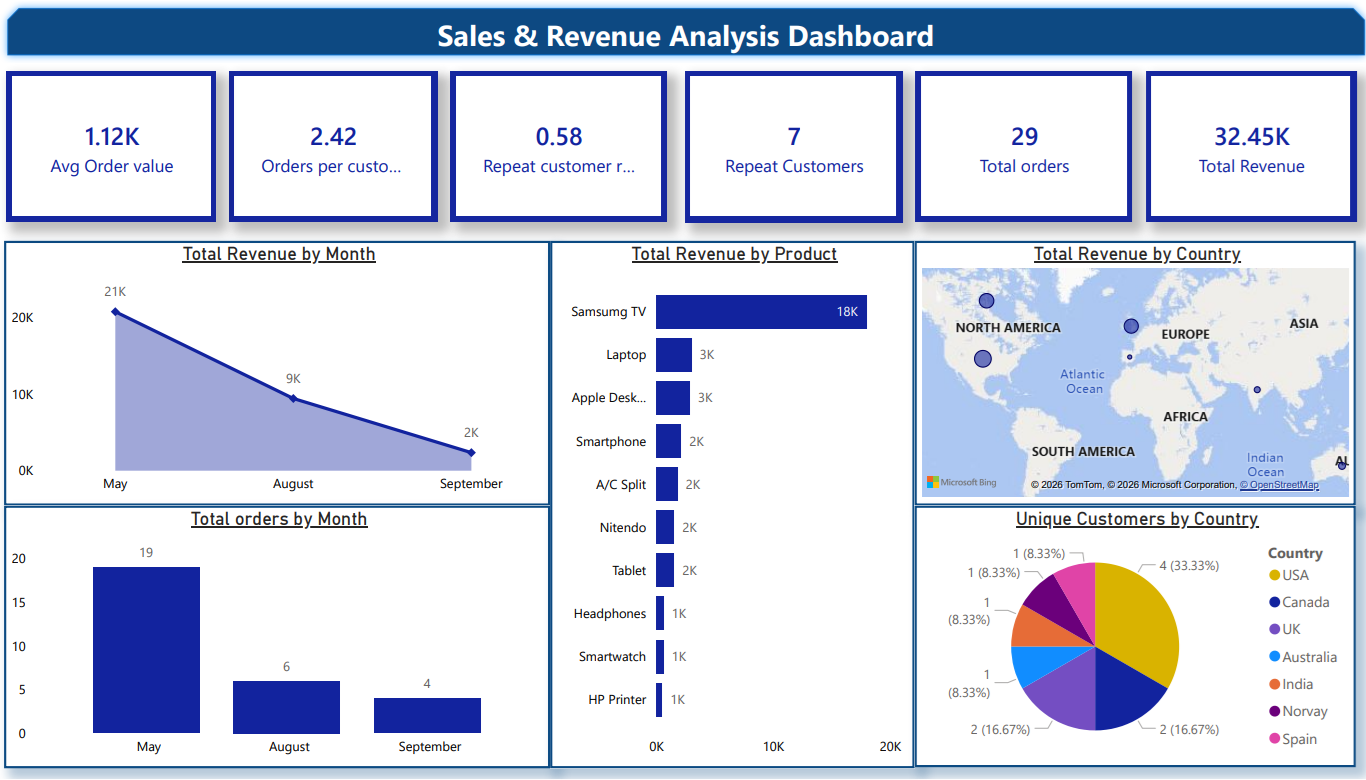

This screenshot's page, from the dashboard's own definition file:
{"tool":"powerbi","page":{"name":"Page 1","canvas":[1280,720],"ordinal":0},"visuals":[{"type":"shape","box":[9.7,0,1269.5,56.7],"z":0},{"type":"cardVisual","fields":{"Data":["Measures (2).Orders per customer"]},"box":[221.8,64.8,192.7,139.3],"z":1000},{"type":"cardVisual","fields":{"Data":["Measures (2).Repeat customer rate"]},"box":[427.5,64.8,199.2,139.3],"z":2000},{"type":"cardVisual","fields":{"Data":["Measures (2).Repeat Customers"]},"box":[644.5,65.3,200.8,139.3],"z":3000},{"type":"cardVisual","fields":{"Data":["Measures (2).Total orders"]},"box":[856.6,64.8,200.8,139.3],"z":4000},{"type":"cardVisual","fields":{"Data":["Measures (2).Total Revenue"]},"box":[1070.3,64.8,194.3,139.3],"z":5000},{"type":"lineChart","fields":{"Category":["Orders.OrderDate.Variation.Date Hierarchy.Month"],"Y":["Measures (2).Total Revenue"]},"box":[14,222.4,505.2,244.5],"z":6000},{"type":"cardVisual","fields":{"Data":["Measures (2).Avg Order value"]},"box":[16.2,64.8,194.3,139.3],"z":7000},{"type":"columnChart","fields":{"Category":["Orders.OrderDate.Variation.Date Hierarchy.Month"],"Y":["Measures (2).Total orders"]},"box":[14,466.9,505.2,242.9],"z":7001},{"type":"clusteredBarChart","title":"Total Revenue by Product","fields":{"Y":["Measures (2).Total Revenue"],"Category":["Products.ProductName"]},"box":[519.2,222.4,336.8,487.4],"z":7002},{"type":"map","fields":{"Category":["Customers.Country"],"Size":["Measures (2).Total Revenue"]},"box":[856,222.4,408,244.5],"z":7003},{"type":"pieChart","fields":{"Y":["Measures (2).Unique Customers"],"Category":["Customers.Country"]},"box":[855.8,467.5,408,242],"z":7004}]}

Visuals, with their boxes in screenshot pixels (x1, y1, x2, y2), scaled from the page's 1280x720 canvas onto the 1366x780 screenshot:
shape: bbox=[10, 0, 1365, 61]
cardVisual - Measures (2).Orders per customer: bbox=[237, 70, 442, 221]
cardVisual - Measures (2).Repeat customer rate: bbox=[456, 70, 669, 221]
cardVisual - Measures (2).Repeat Customers: bbox=[688, 71, 902, 222]
cardVisual - Measures (2).Total orders: bbox=[914, 70, 1128, 221]
cardVisual - Measures (2).Total Revenue: bbox=[1142, 70, 1350, 221]
lineChart - Orders.OrderDate.Variation.Date Hierarchy.Month x Measures (2).Total Revenue: bbox=[15, 241, 554, 506]
cardVisual - Measures (2).Avg Order value: bbox=[17, 70, 225, 221]
columnChart - Orders.OrderDate.Variation.Date Hierarchy.Month x Measures (2).Total orders: bbox=[15, 506, 554, 769]
"Total Revenue by Product" clusteredBarChart: bbox=[554, 241, 914, 769]
map - Customers.Country x Measures (2).Total Revenue: bbox=[914, 241, 1349, 506]
pieChart - Measures (2).Unique Customers x Customers.Country: bbox=[913, 506, 1349, 769]
